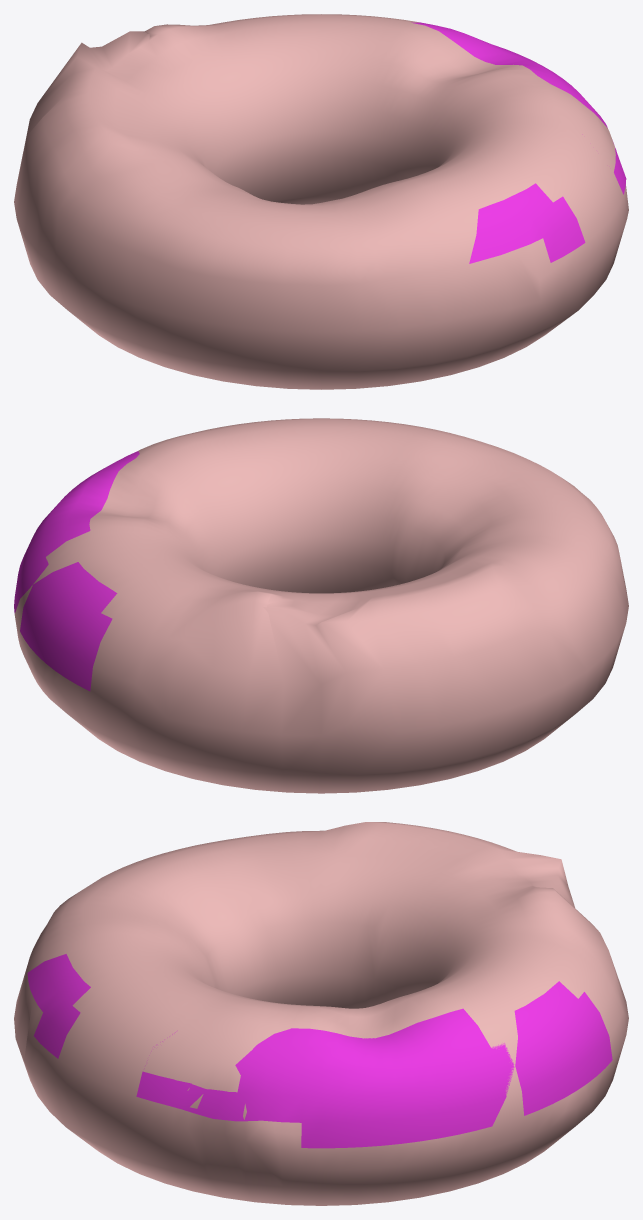
The picture shows the model from 3 angles, top to bottom: view 1: azimuth 30°, elevation 25°; view 2: azimuth 150°, elevation 25°; view 3: azimuth 270°, elevation 25°; orthographic projection.
Parts seen in each view (by area): view 1: Icining, Torus.002; view 2: Icining, Torus.002; view 3: Icining, Torus.002.
Part boxes in pixels (<box>): Icining: <box>14,14,628,389</box>; Torus.002: <box>411,22,626,263</box>; Icining: <box>14,418,628,793</box>; Torus.002: <box>14,451,139,691</box>; Icining: <box>14,822,628,1205</box>; Torus.002: <box>27,954,612,1148</box>.
Size of the model in its own units: 3.06 by 1.07 by 3.06.
